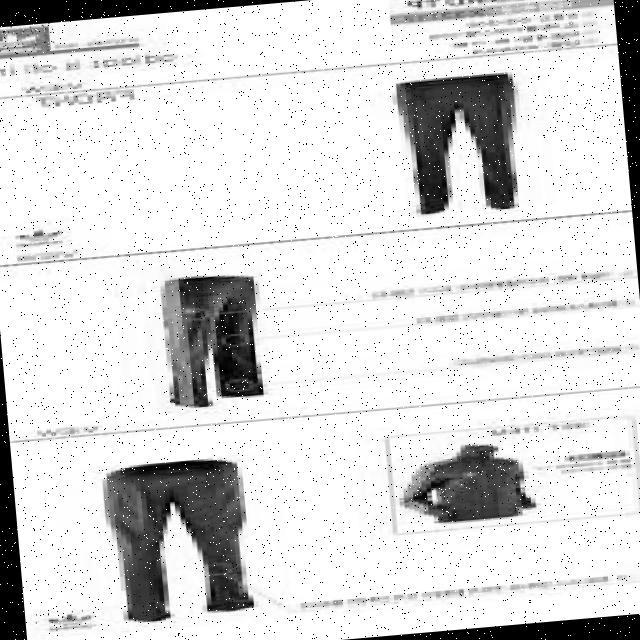Adidas: (34, 604, 101, 632), (0, 22, 55, 54)
